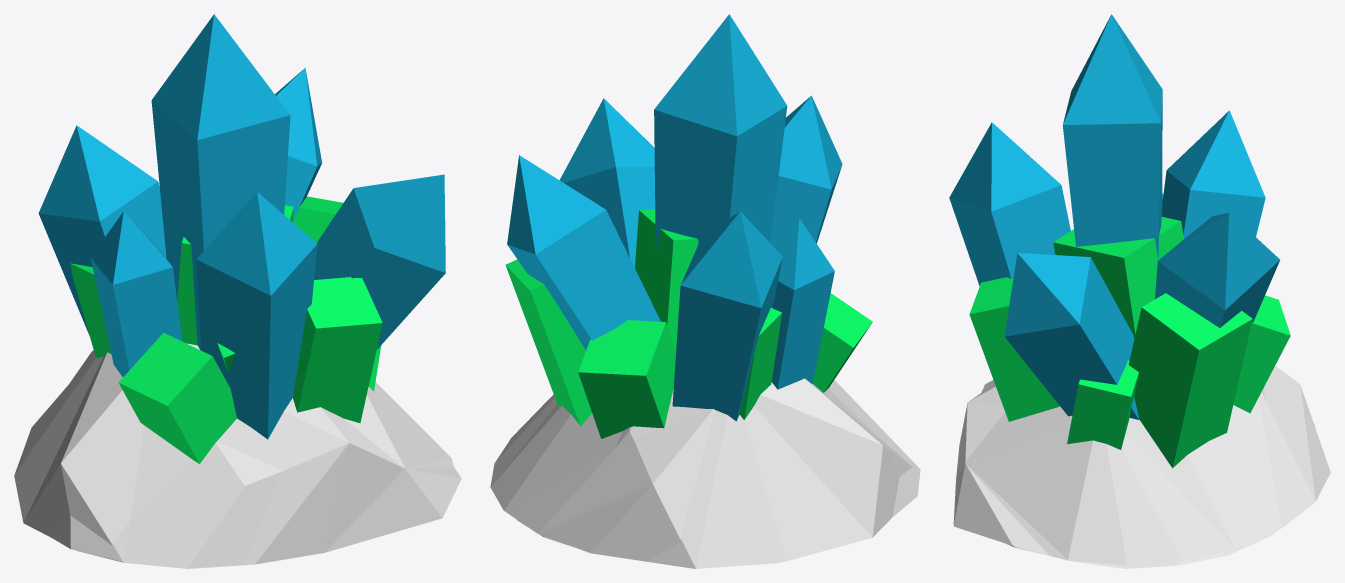
File: Ore_A1.fbx
3 views of the same model, side by side, from view 1: azimuth 30°, elevation 25°; view 2: azimuth 150°, elevation 25°; view 3: azimuth 270°, elevation 25° (orthographic). The views are drawn at different scales.
Visible parts, largest first — view 1: Crystal_LowPoly, QuartzBase; view 2: Crystal_LowPoly, QuartzBase; view 3: Crystal_LowPoly, QuartzBase.
Part boxes in pixels (left/top/right/bottom): Crystal_LowPoly: left=38, top=14, right=453, bottom=567; QuartzBase: left=14, top=196, right=461, bottom=568; Crystal_LowPoly: left=490, top=14, right=920, bottom=568; QuartzBase: left=505, top=209, right=912, bottom=568; Crystal_LowPoly: left=949, top=14, right=1330, bottom=565; QuartzBase: left=953, top=217, right=1314, bottom=568.
Size of the model in its own units: 2.27 by 2.79 by 2.08.
